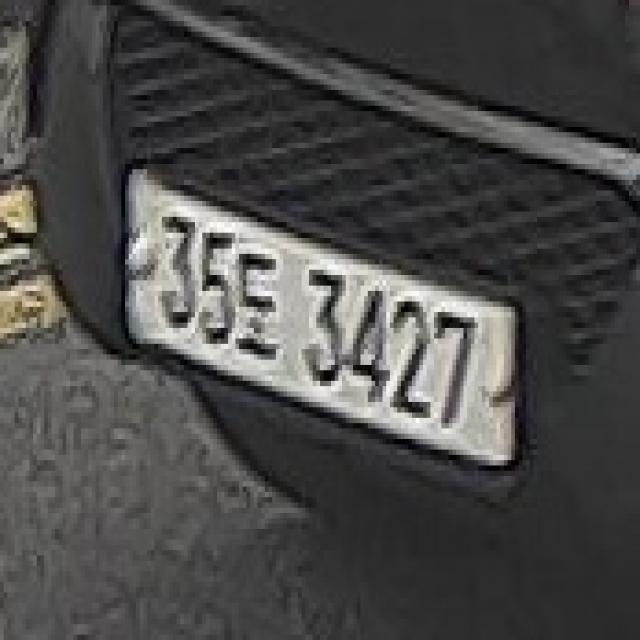2: (390, 296, 430, 418)
3: (302, 259, 346, 392), (158, 206, 199, 334)
4: (346, 286, 390, 402)
5: (192, 227, 236, 344)
7: (430, 312, 482, 428)
do: (232, 243, 283, 360)
license_plate: (122, 169, 522, 476)
